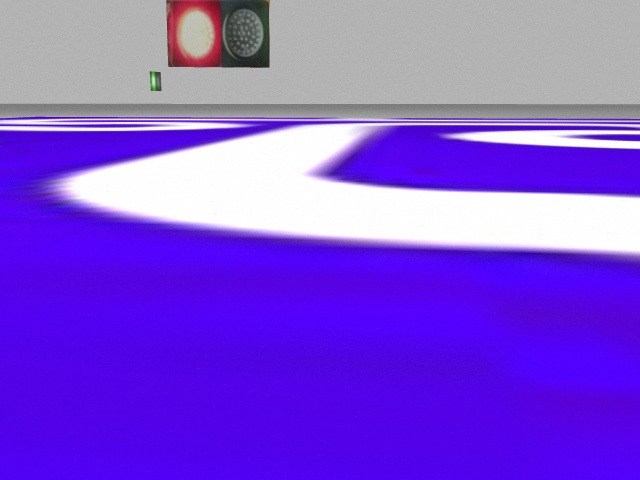red: (166, 2, 222, 67)
